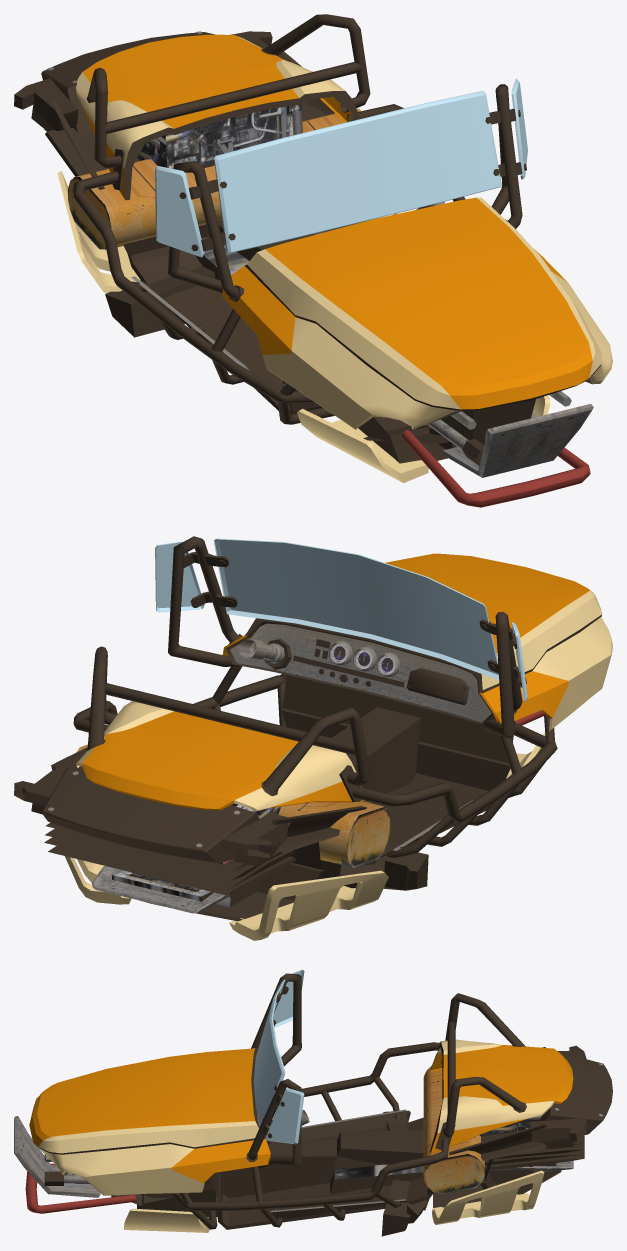
File: Truck.fbx
3 views of the same model, one above another, from view 1: azimuth 30°, elevation 25°; view 2: azimuth 150°, elevation 25°; view 3: azimuth 270°, elevation 25° (orthographic). The views are drawn at different scales.
Parts seen in each view (by area): view 1: node_id181, node_id169, node_id175, node_id177, node_id185, node_id171; view 2: node_id169, node_id181, node_id175, node_id177, node_id185, node_id183, node_id179; view 3: node_id181, node_id169, node_id175, node_id185, node_id177, node_id183, node_id171.
Boxes of the visible parts, bbox=[...] form: node_id181: bbox=[57, 34, 612, 507]; node_id169: bbox=[14, 14, 600, 466]; node_id175: bbox=[155, 78, 527, 257]; node_id177: bbox=[47, 31, 593, 477]; node_id185: bbox=[68, 108, 360, 249]; node_id171: bbox=[137, 104, 302, 168]; node_id169: bbox=[14, 536, 601, 921]; node_id181: bbox=[65, 553, 612, 940]; node_id175: bbox=[155, 538, 527, 701]; node_id177: bbox=[47, 623, 491, 913]; node_id185: bbox=[76, 744, 390, 867]; node_id183: bbox=[111, 800, 371, 907]; node_id179: bbox=[331, 643, 395, 674]; node_id181: bbox=[25, 1039, 573, 1232]; node_id169: bbox=[35, 973, 612, 1236]; node_id175: bbox=[253, 969, 304, 1144]; node_id185: bbox=[423, 1065, 484, 1194]; node_id177: bbox=[14, 1063, 603, 1212]; node_id183: bbox=[334, 1139, 533, 1179]; node_id171: bbox=[479, 1115, 542, 1136].
Size of the model in its own units: 0.512 by 0.3583 by 1.02.
Materials: 9 (9 with a texture image).
